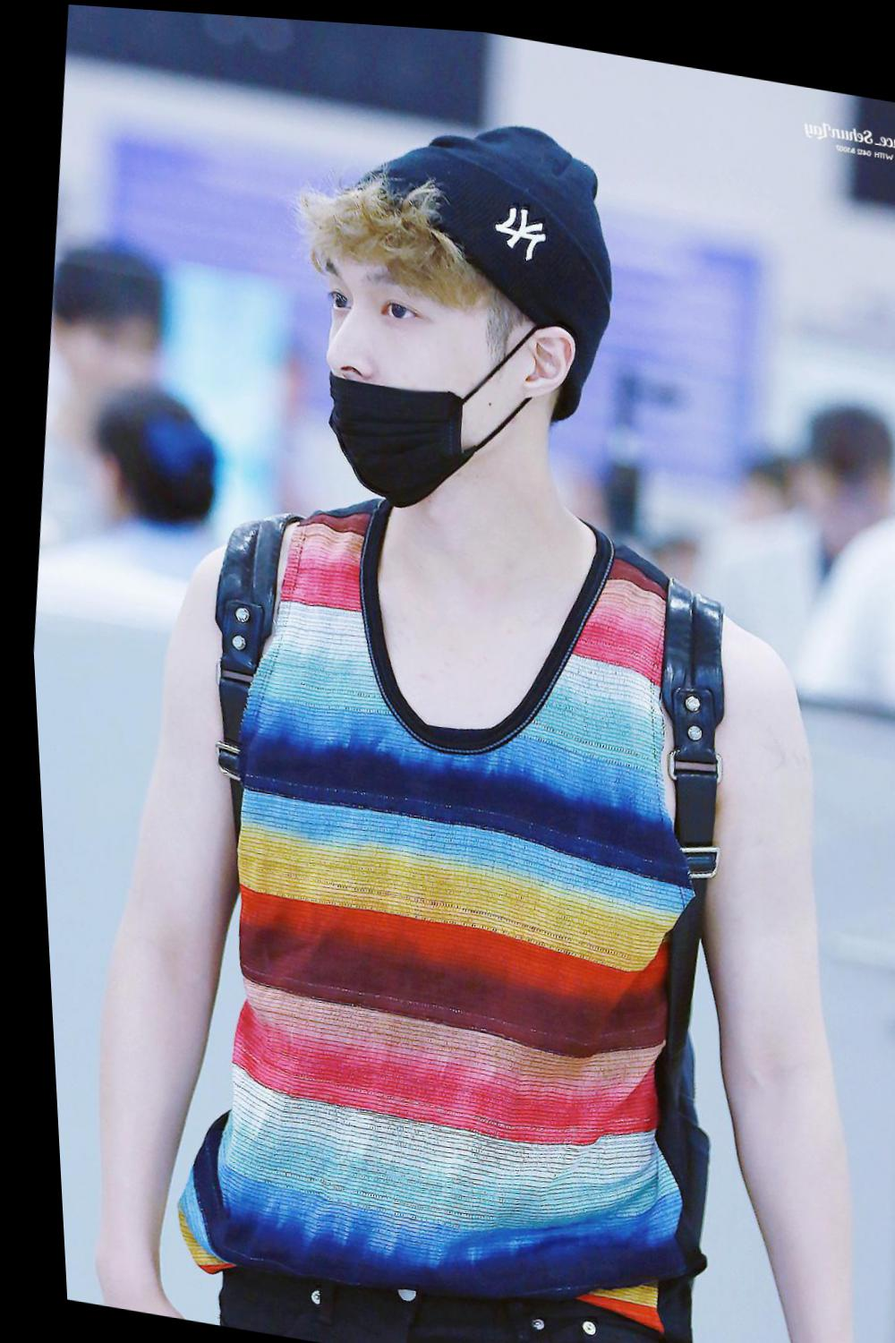WRONG: (295, 235, 504, 516)
